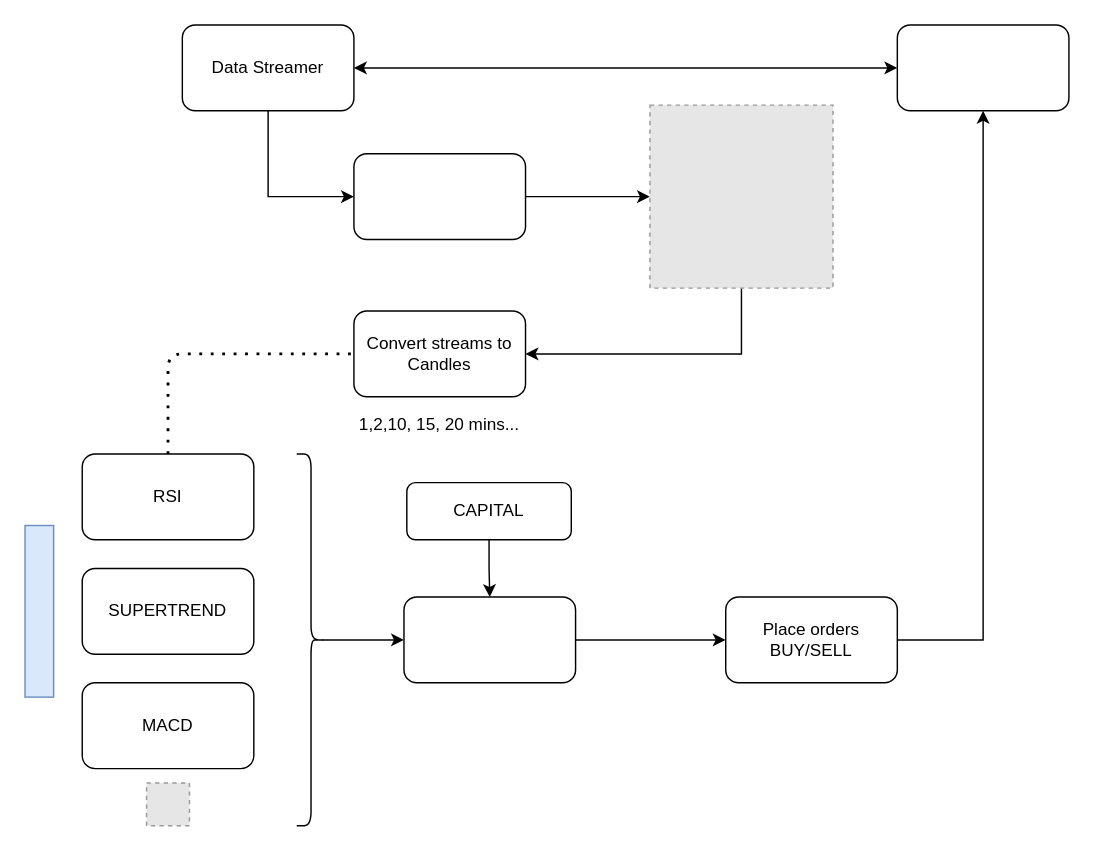
The diagram is 1094 pixels wide and 851 high, and some of its shapes have lost their labels. Grey dashed boxes stand in for pictures. Each missing label, with the centre of its shape:
"Back-tested decision tree" goes at (489,639).
"Convert to Data Frames" goes at (439,196).
"Technical Indicators" goes at (39,610).
"Zerodha API" goes at (982,67).
